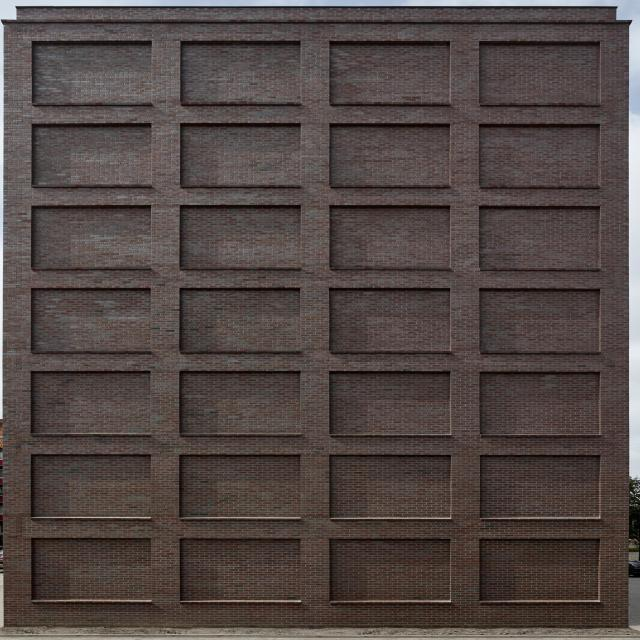wall: (4, 6, 631, 628)
